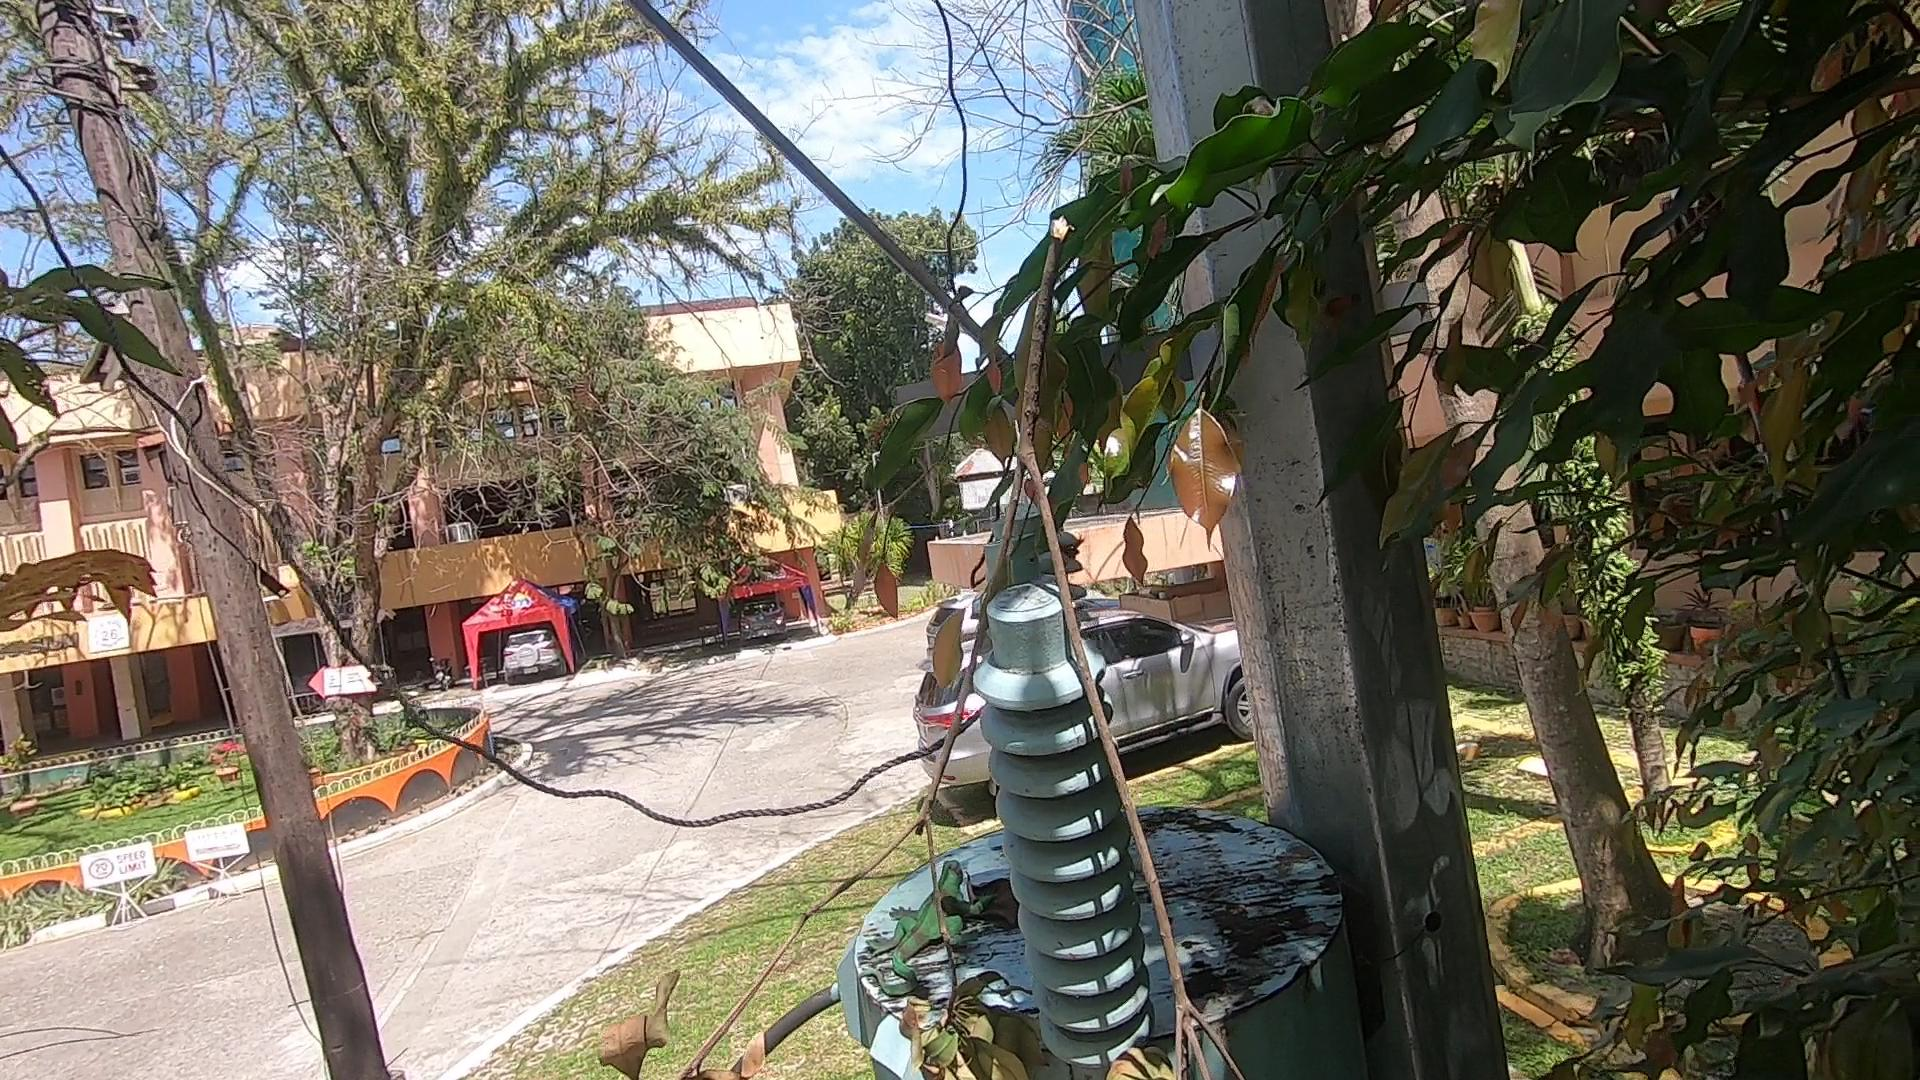branch with leaves: (585, 202, 1258, 1077)
leaf: (971, 870, 1025, 949)
